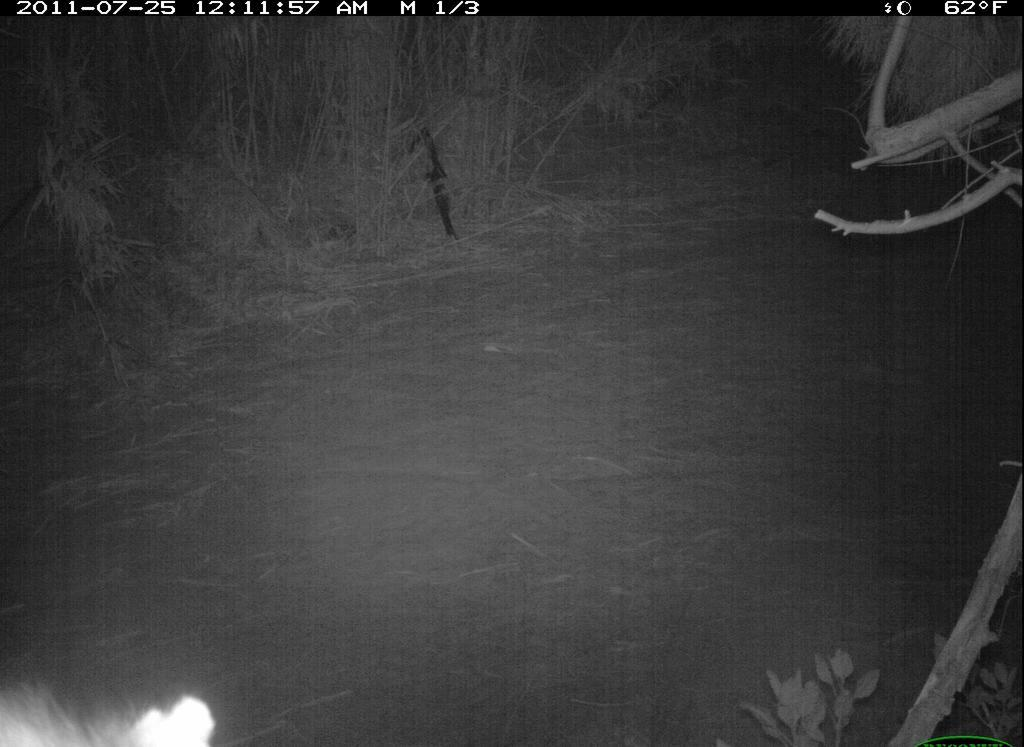raccoon: (1, 666, 216, 747)
